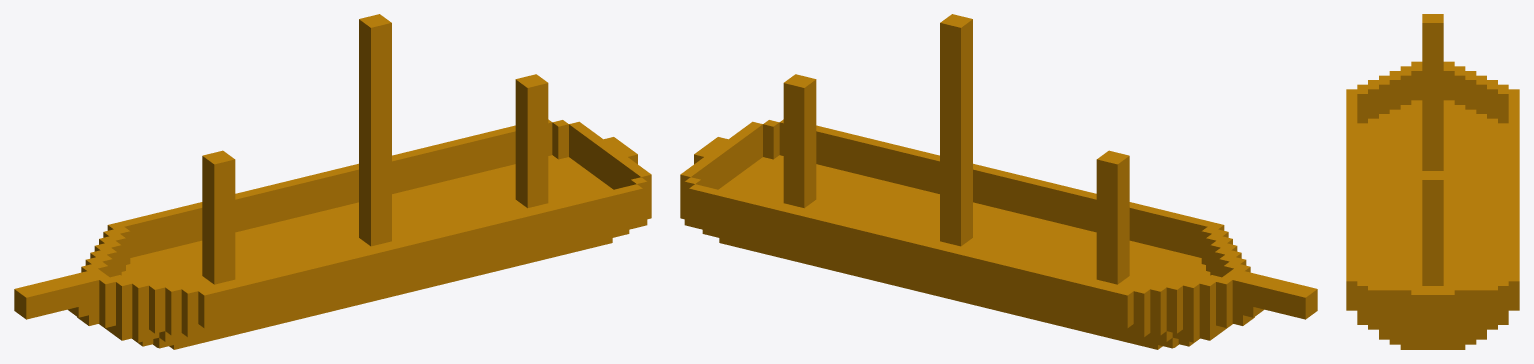
The model's file is Ship1.obj.
3 renders of one model, left to right at view 1: azimuth 30°, elevation 25°; view 2: azimuth 150°, elevation 25°; view 3: azimuth 270°, elevation 25°, orthographic. The views are drawn at different scales.
Size of the model in its own units: 5.8 by 2.4 by 1.6.
Materials: 1 (1 with a texture image).
